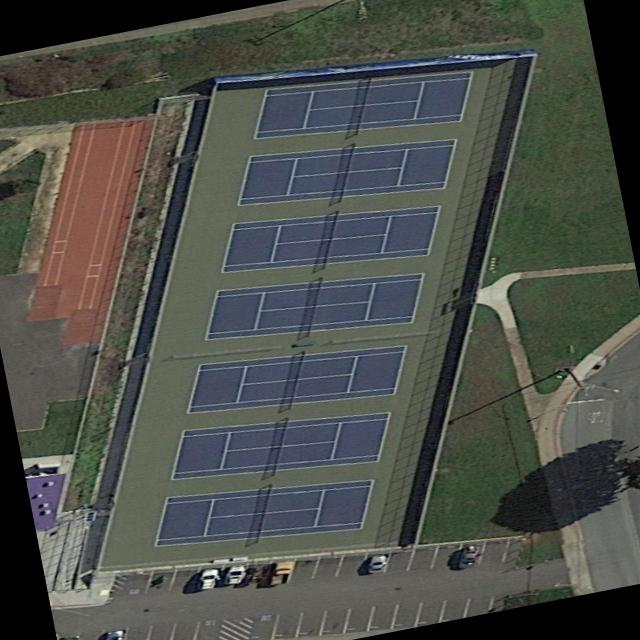small-vehicle: (269, 560, 297, 586), (457, 545, 482, 568), (196, 568, 220, 590), (220, 564, 246, 584), (366, 553, 390, 574), (103, 630, 124, 640)
